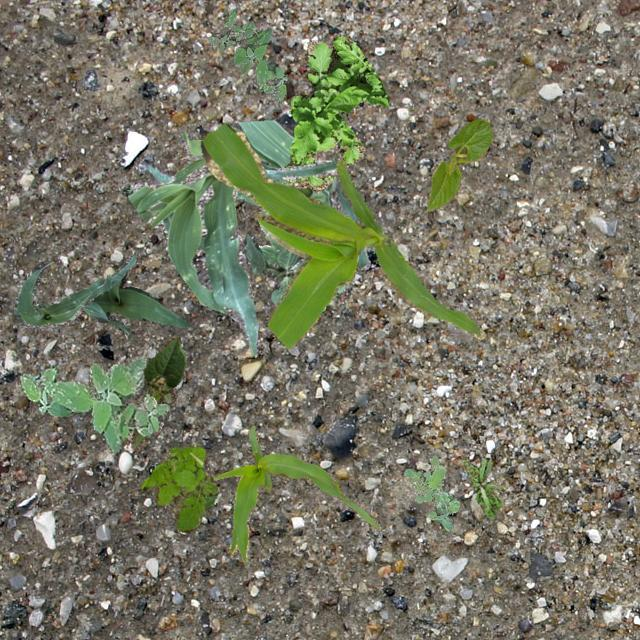crop: (200, 122, 484, 348), (126, 130, 336, 356), (126, 120, 370, 268), (212, 424, 380, 562), (14, 254, 134, 328), (258, 208, 344, 294), (80, 274, 188, 334), (130, 334, 184, 452), (426, 117, 492, 210), (242, 232, 308, 304)
weed: (282, 34, 388, 192), (18, 356, 168, 451), (208, 8, 286, 102), (140, 446, 218, 532), (404, 454, 458, 530), (462, 458, 504, 518)
